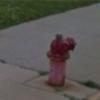a fire hydrant: (46, 34, 76, 87)
